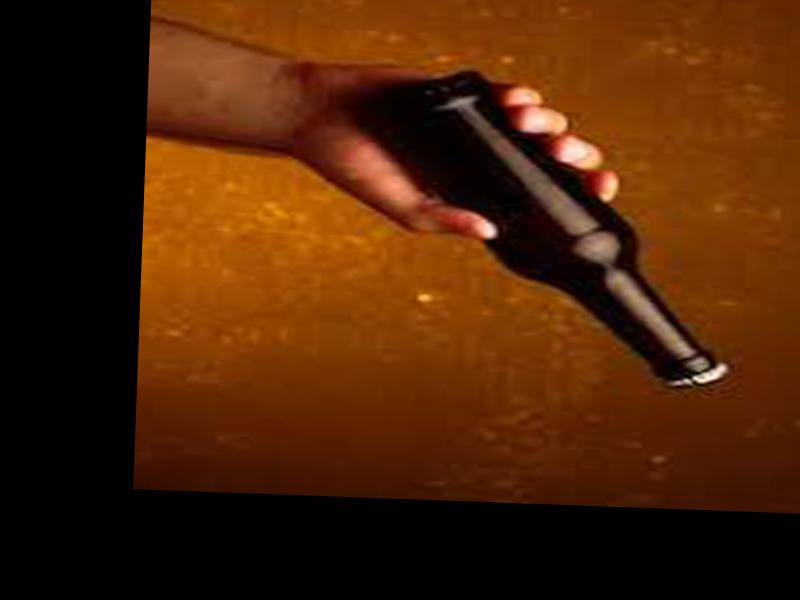Beer: (332, 66, 744, 391)
